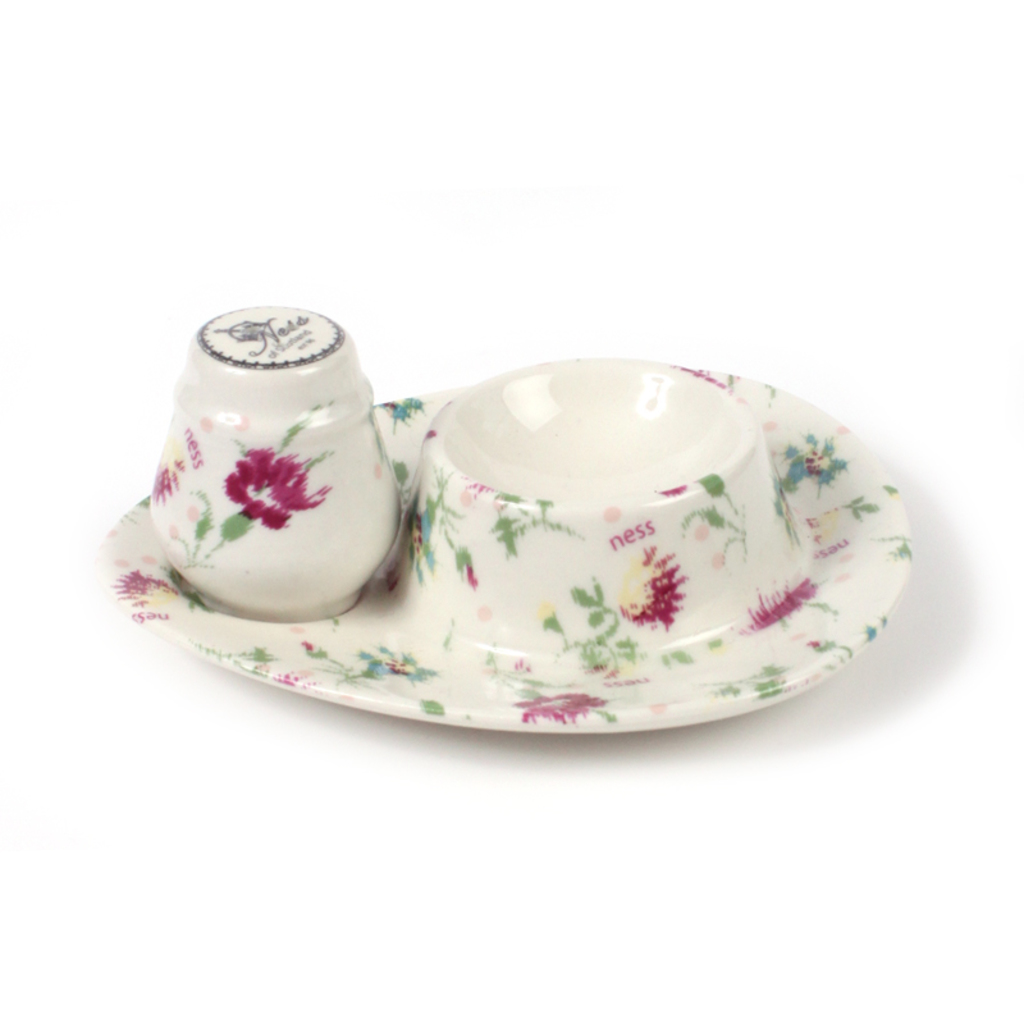plate: (93, 368, 914, 734)
